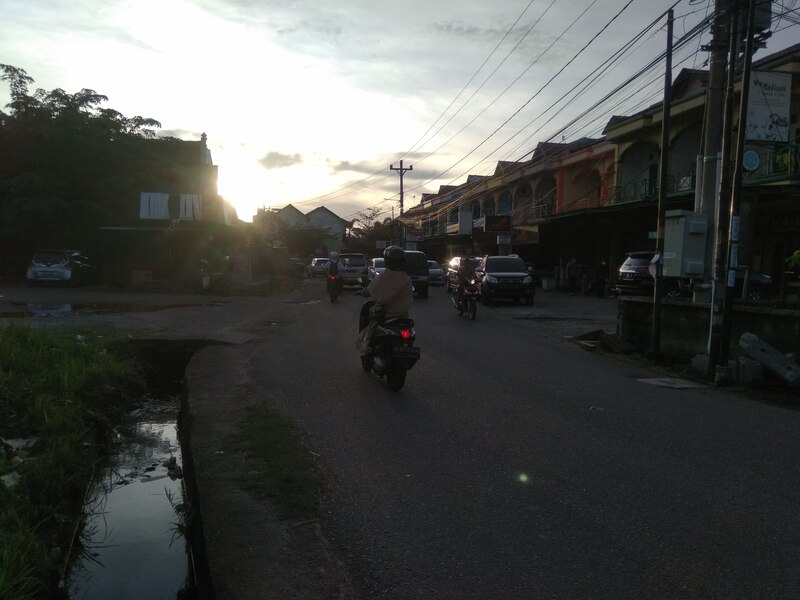car: (614, 249, 705, 302), (476, 251, 536, 303), (398, 249, 432, 298), (333, 251, 371, 294)
motorcycle: (355, 272, 423, 397), (449, 275, 488, 323), (325, 267, 347, 303)
